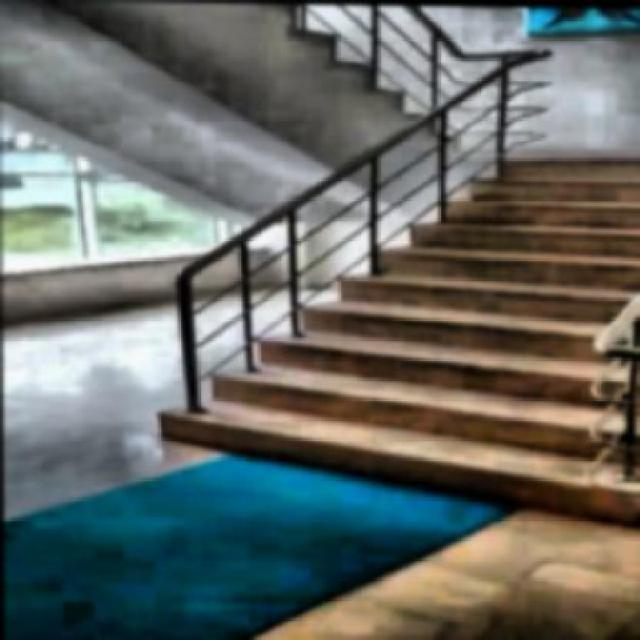stair: (110, 138, 638, 524)
